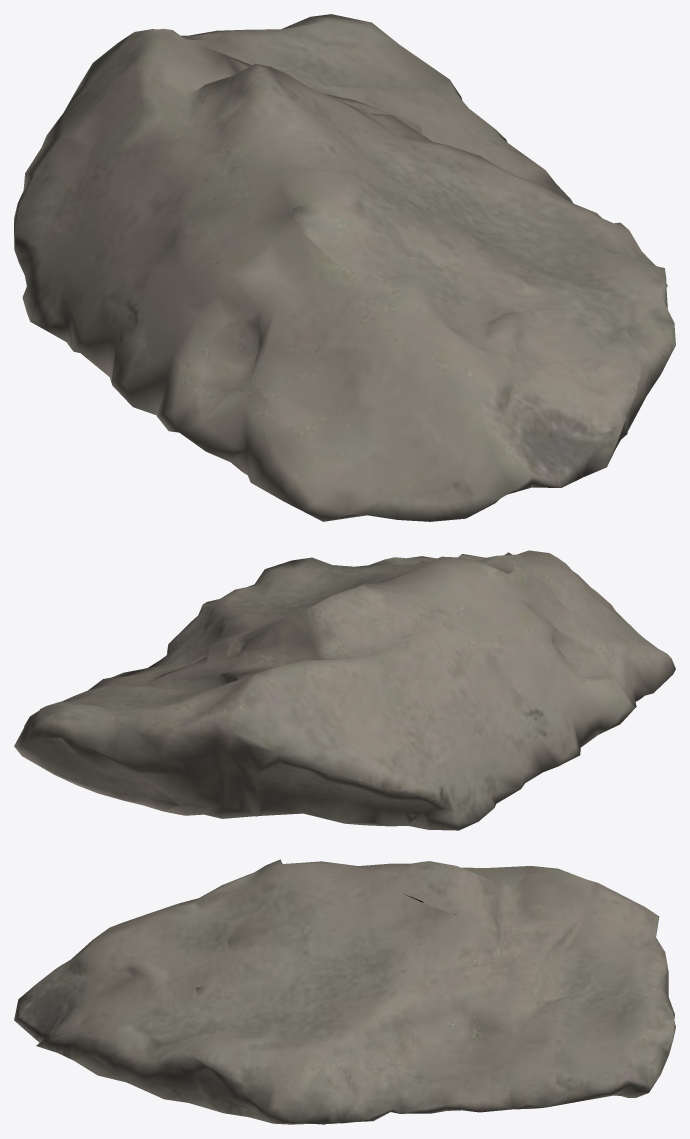
Rendered from ph-moon-rock-04.glb.
3 views of the same model, one above another, from view 1: azimuth 30°, elevation 25°; view 2: azimuth 150°, elevation 25°; view 3: azimuth 270°, elevation 25° (orthographic). The views are drawn at different scales.
Parts seen in each view (by area): view 1: ph-moon-rock-04_LOD0; view 2: ph-moon-rock-04_LOD0; view 3: ph-moon-rock-04_LOD0.
Boxes of the visible parts, left/top/right/bottom form: ph-moon-rock-04_LOD0: left=14, top=14, right=675, bottom=521; ph-moon-rock-04_LOD0: left=14, top=550, right=675, bottom=830; ph-moon-rock-04_LOD0: left=14, top=859, right=675, bottom=1124.
Size of what is drawn, in the model's own units: 0.6852 by 0.3095 by 0.9994.
Materials: 1 (1 with a texture image).
